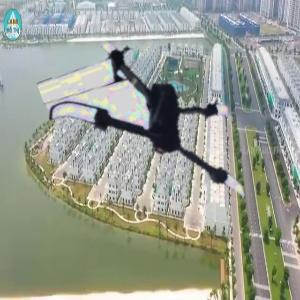drone: (61, 29, 264, 232)
